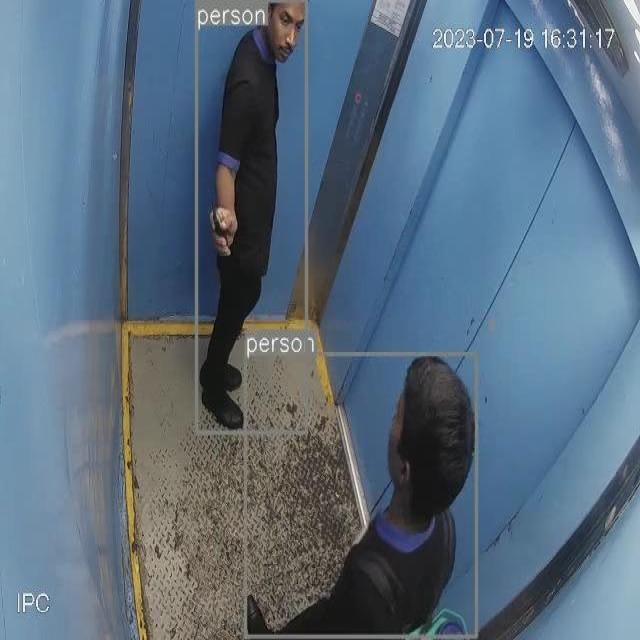person: (244, 356, 477, 640), (198, 1, 306, 423)
